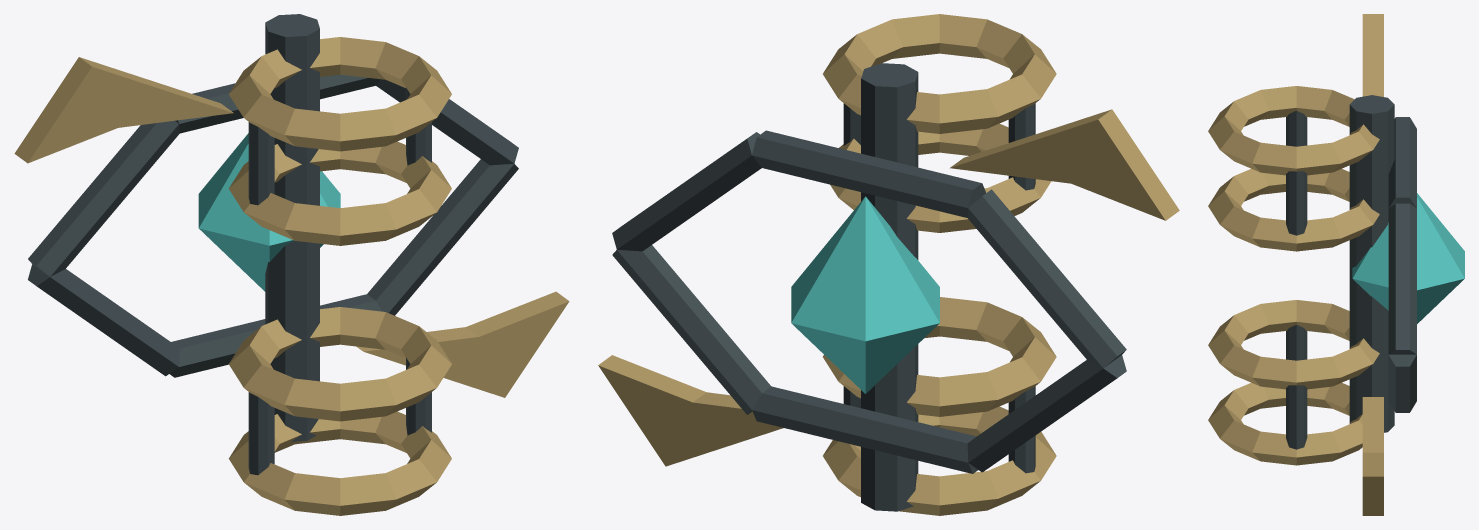
File: Arsenal_StormEyeGuard.fbx
3 renders of one model, left to right at view 1: azimuth 30°, elevation 25°; view 2: azimuth 150°, elevation 25°; view 3: azimuth 270°, elevation 25°, orthographic. The views are drawn at different scales.
Visible parts, largest first — view 1: Arsenal_StormEyeGuard; view 2: Arsenal_StormEyeGuard; view 3: Arsenal_StormEyeGuard.
Boxes of the visible parts, left/top/right/bottom form: Arsenal_StormEyeGuard: left=14, top=14, right=569, bottom=515; Arsenal_StormEyeGuard: left=598, top=14, right=1179, bottom=515; Arsenal_StormEyeGuard: left=1208, top=14, right=1464, bottom=515.
Bounding box in the file's own units: 0.42 × 0.32 × 0.2176.
